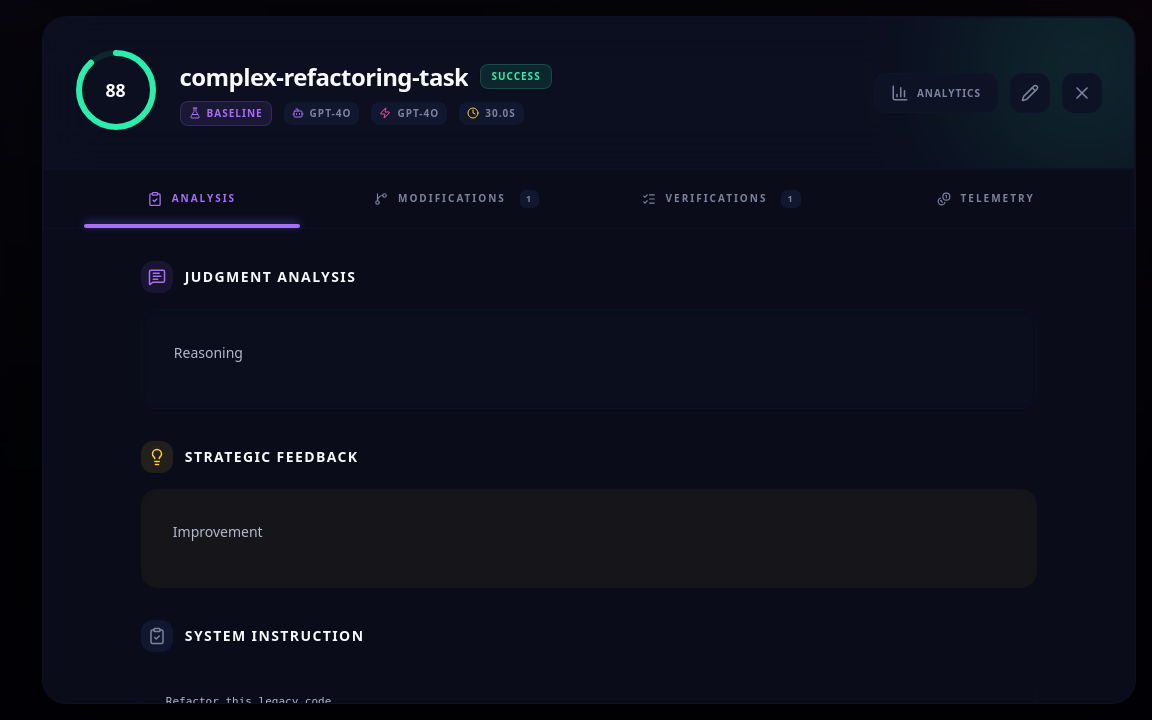
Test: RunDetailPanel › switches to Modifications tab on click
Click the button "Modifications 1" at coordinates (456, 199), box [324,170,589,228]
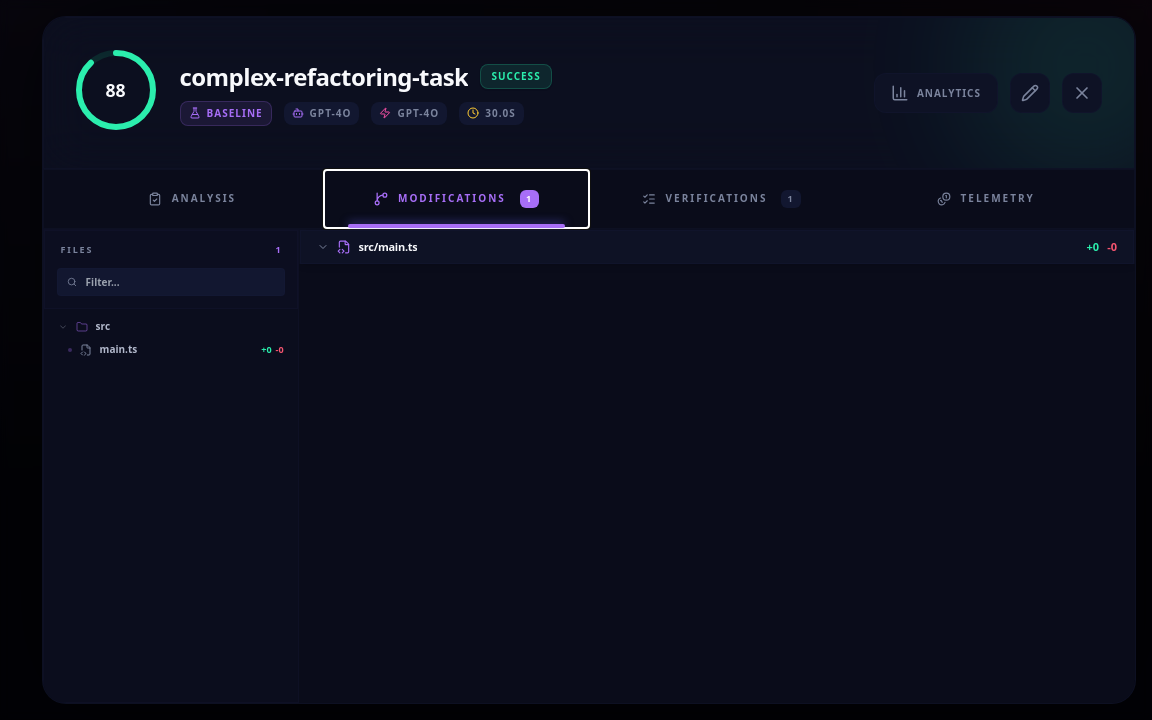
Expected: the text "main.ts" is shown, [100,342,137,356]
